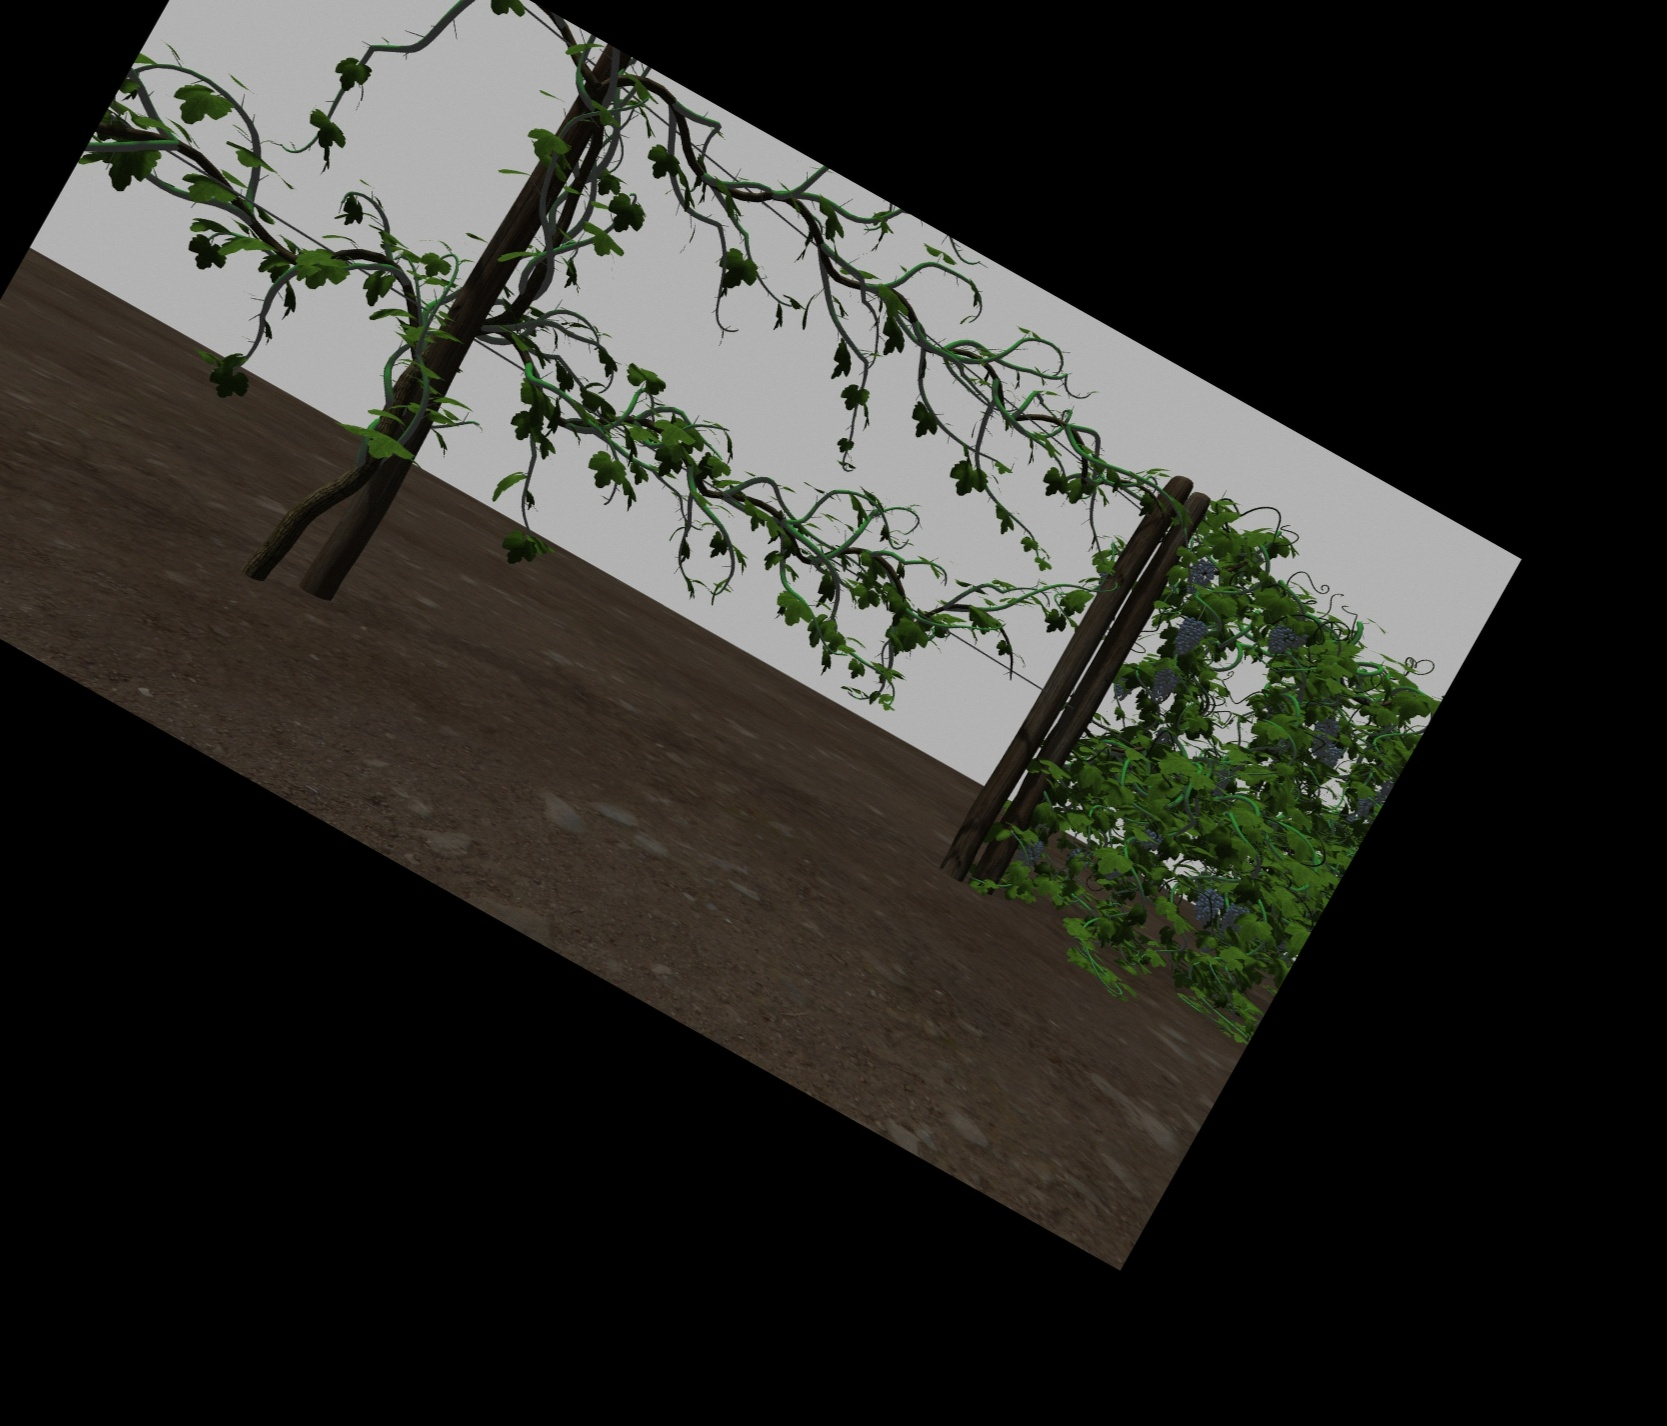grape: (1176, 618, 1201, 655), (1186, 557, 1211, 594), (1268, 624, 1296, 655), (1152, 666, 1177, 700), (1310, 719, 1334, 753), (1194, 890, 1218, 921), (1223, 900, 1241, 929), (1026, 840, 1043, 866), (1359, 791, 1373, 816), (1325, 746, 1342, 765)
